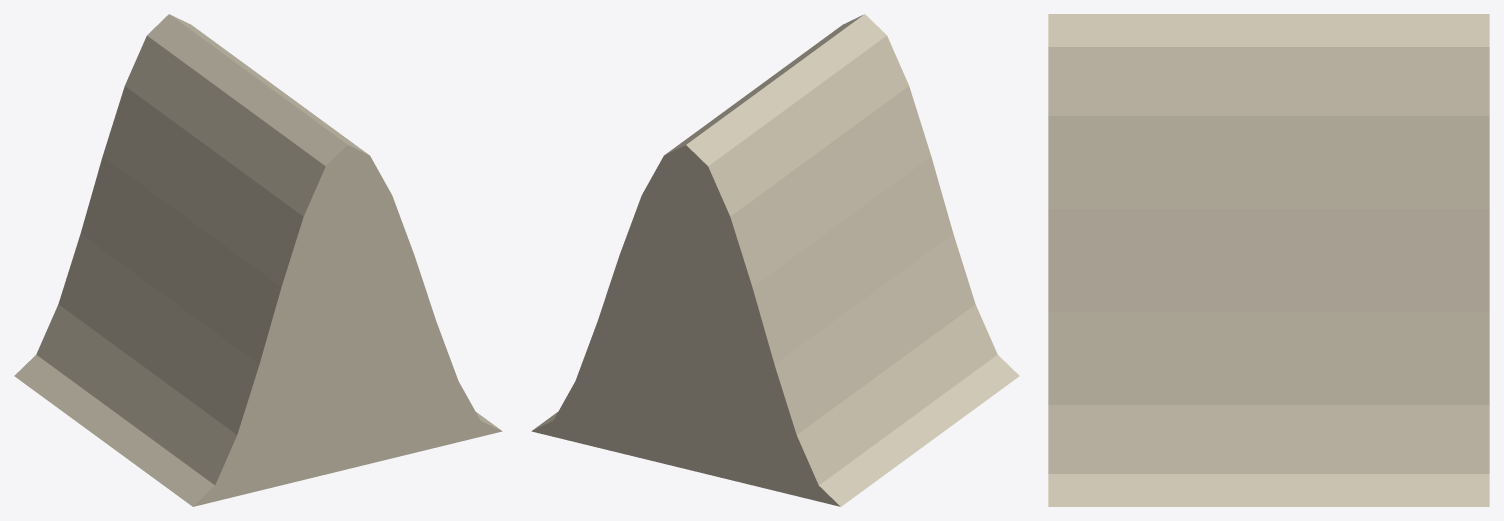
File: arch_tile.glb
3 renders of one model, left to right at view 1: azimuth 30°, elevation 25°; view 2: azimuth 150°, elevation 25°; view 3: azimuth 270°, elevation 25°, orthographic. The views are drawn at different scales.
Visible parts, largest first — view 1: Body; view 2: Body; view 3: Body.
Part boxes in pixels (x1=…): Body: x1=14, y1=14, x2=502, y2=506; Body: x1=531, y1=14, x2=1019, y2=506; Body: x1=1048, y1=14, x2=1489, y2=506.
Size of the model in its own units: 1 by 1 by 1.
